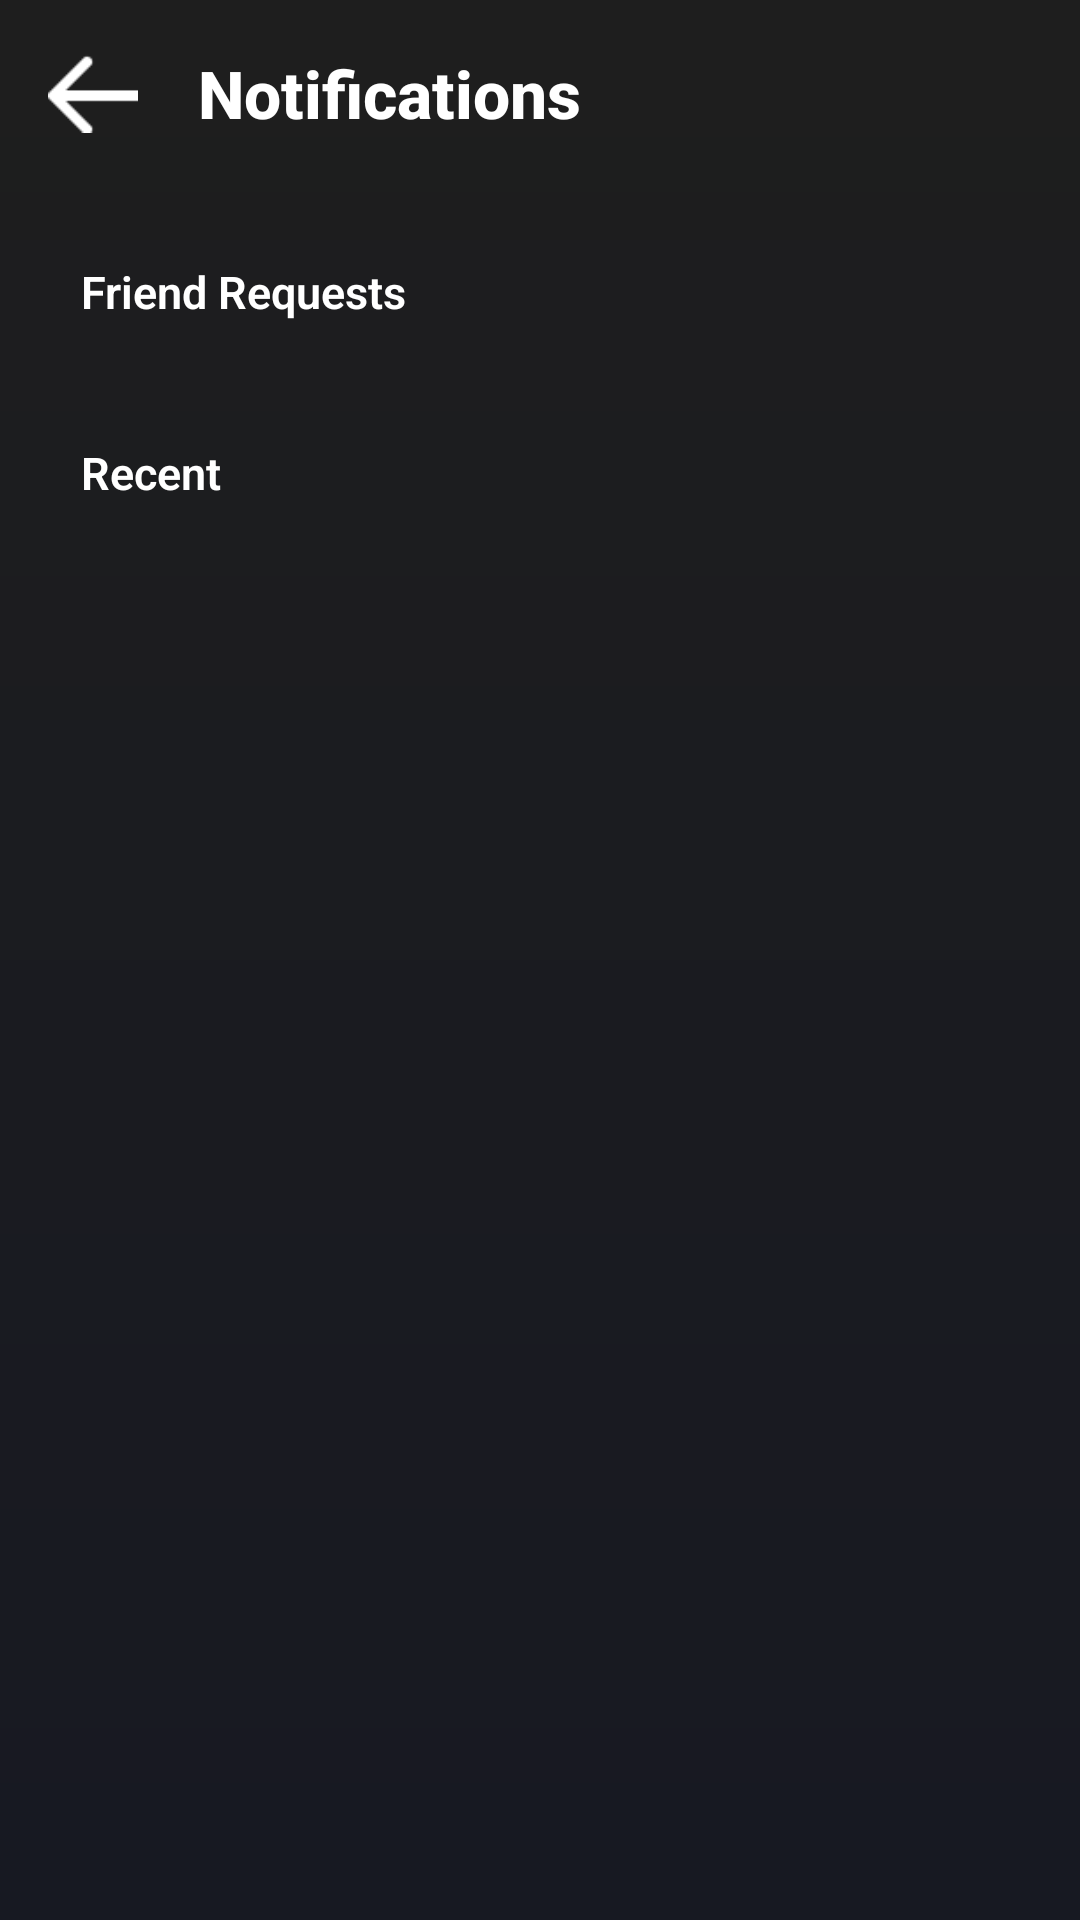

Icon click points for this 1080 x 1920 phone screenshot, format (x,y):
arrow: (93,94)
